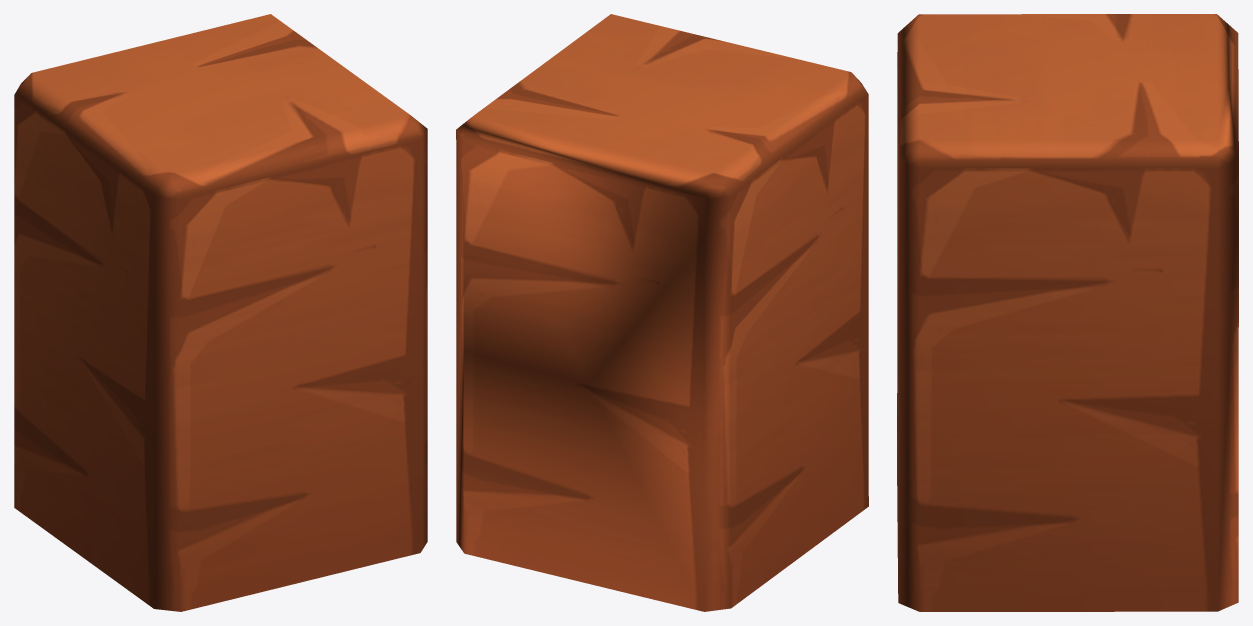
File: Brick_01.fbx
The picture shows the model from 3 angles, left to right: view 1: azimuth 30°, elevation 25°; view 2: azimuth 150°, elevation 25°; view 3: azimuth 270°, elevation 25°; orthographic projection. The views are drawn at different scales.
Parts seen in each view (by area): view 1: Brick_01; view 2: Brick_01; view 3: Brick_01.
Part boxes in pixels (bbox=[...]): Brick_01: bbox=[14, 14, 427, 611]; Brick_01: bbox=[456, 14, 868, 611]; Brick_01: bbox=[897, 14, 1238, 611].
Size of the model in its own units: 78.86 by 118 by 78.9.
